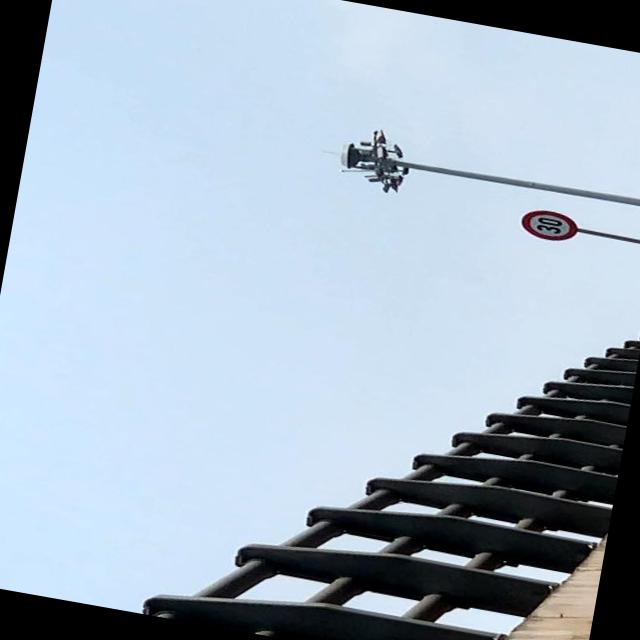P-127: (518, 204, 578, 244)
